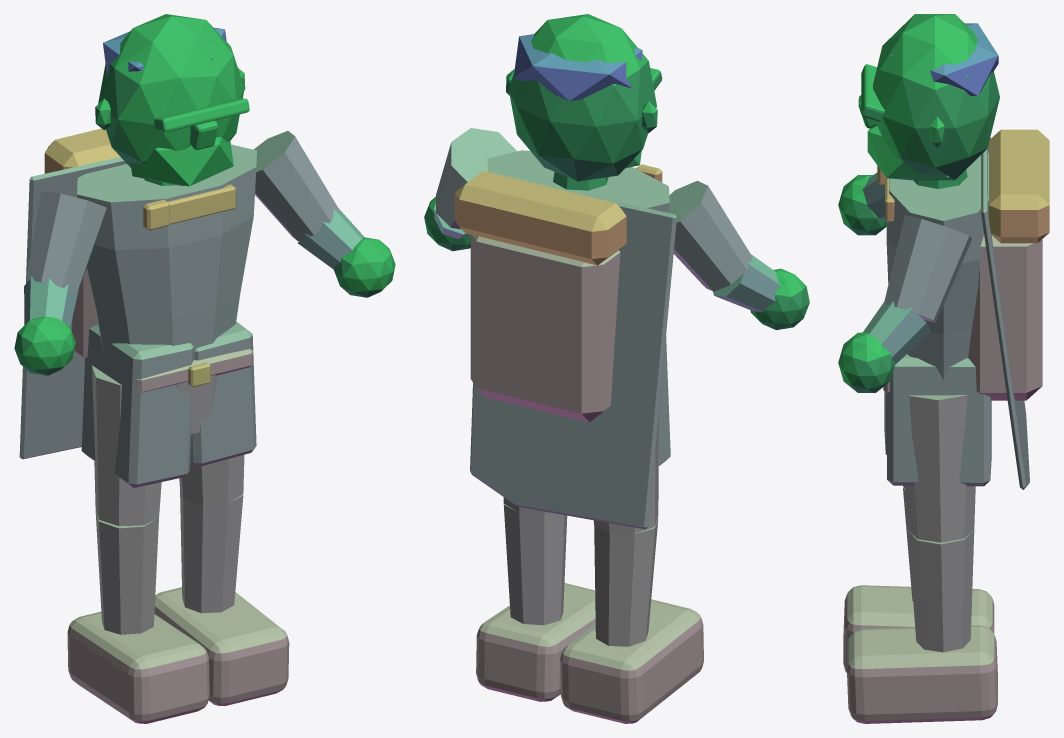
Rendered from npc_traveller_react_v01.glb.
3 views of the same model, side by side, from view 1: azimuth 30°, elevation 25°; view 2: azimuth 150°, elevation 25°; view 3: azimuth 270°, elevation 25° (orthographic).
Visible parts, largest first — view 1: GEO_npc_traveller_react_v01; view 2: GEO_npc_traveller_react_v01; view 3: GEO_npc_traveller_react_v01.
Part boxes in pixels (x1,y1,x2,y2): GEO_npc_traveller_react_v01: (14,14,395,723); GEO_npc_traveller_react_v01: (424,14,809,723); GEO_npc_traveller_react_v01: (838,14,1049,723).
Bounding box in the file's own units: 1.21 × 2.07 × 0.59.
